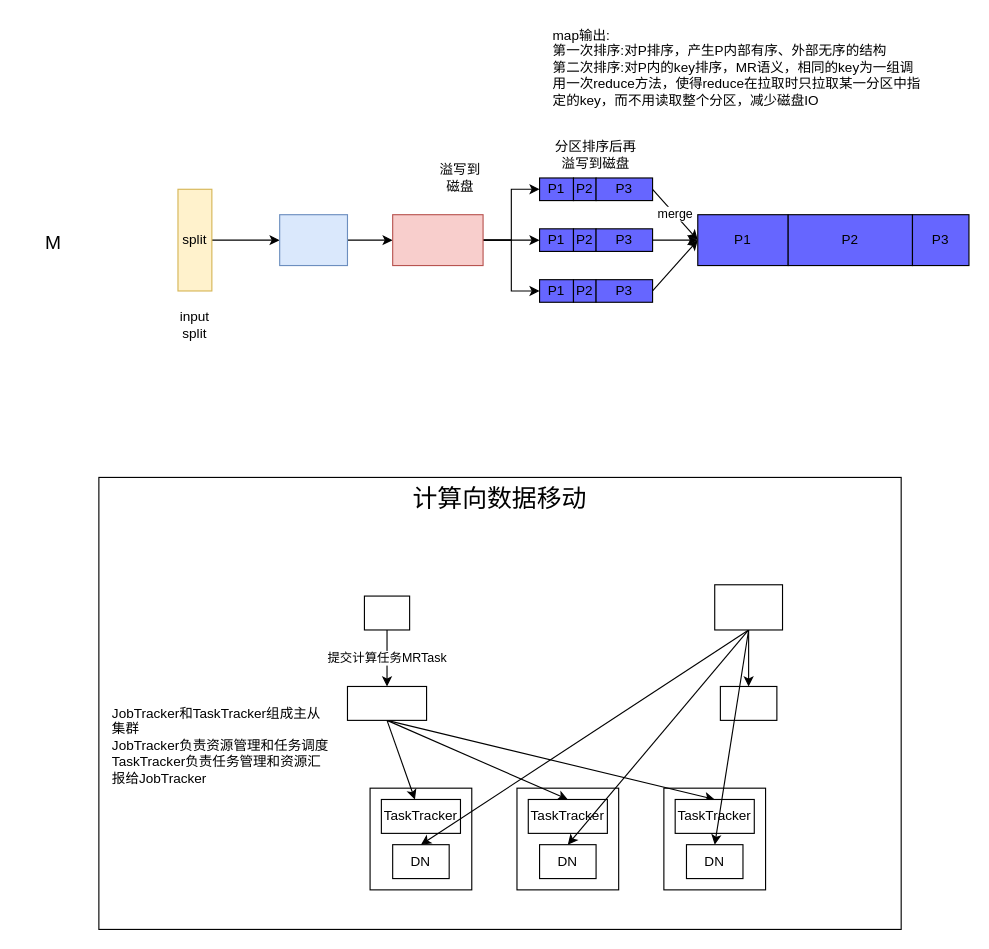
This 989x949 diagram has some shape labels left out. Each missing label, with the centre of its shape:
"buffer" goes at pixel 437 240.
"JobTracker" goes at pixel 386 702.
"map" goes at pixel 313 240.
"NN" goes at pixel 748 702.
"上传文件Cli" goes at pixel 748 607.
"计算Cli" goes at pixel 386 612.
